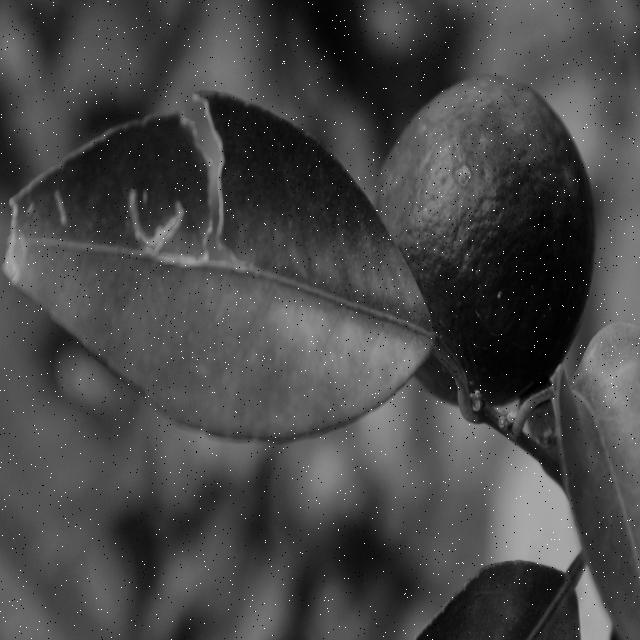greening: (52, 106, 425, 441)
